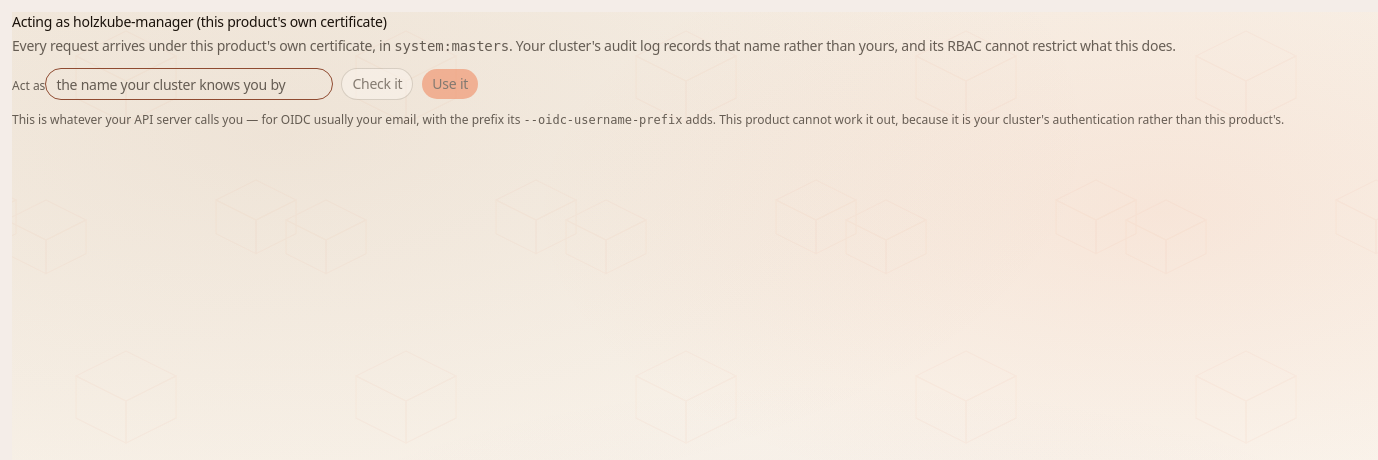
Scenario: choosing whose name the cluster sees › stores exactly the name that was checked
Later steps or results of the test are not shown.
Type "admin@example.com" into the field labelled "Act as". click: (189, 84)
box: [45,68,333,100]
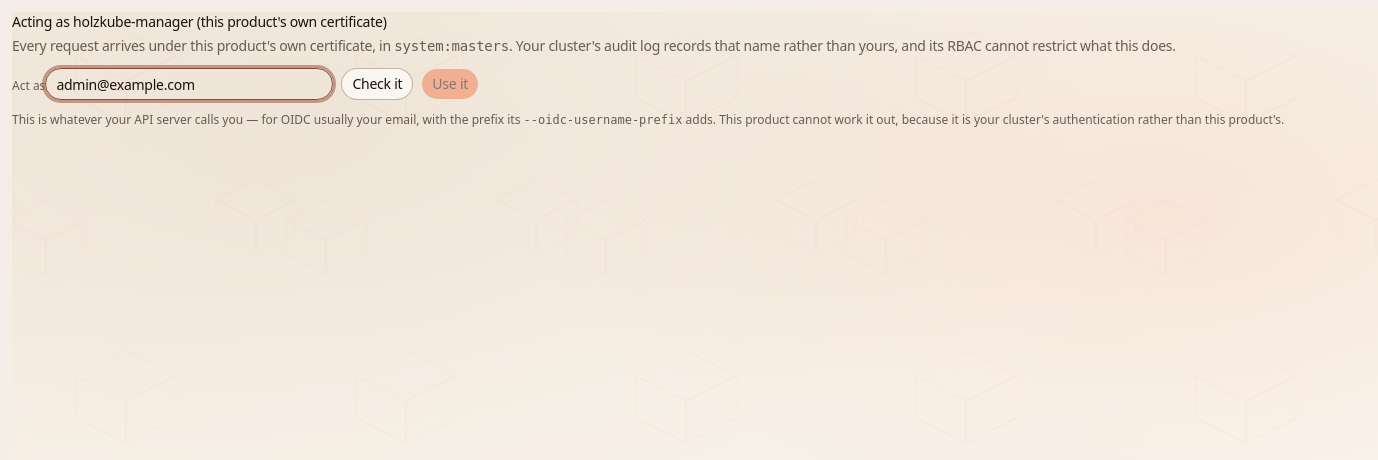
Click the button "Check it". click: (377, 84)
box: [341,68,413,100]
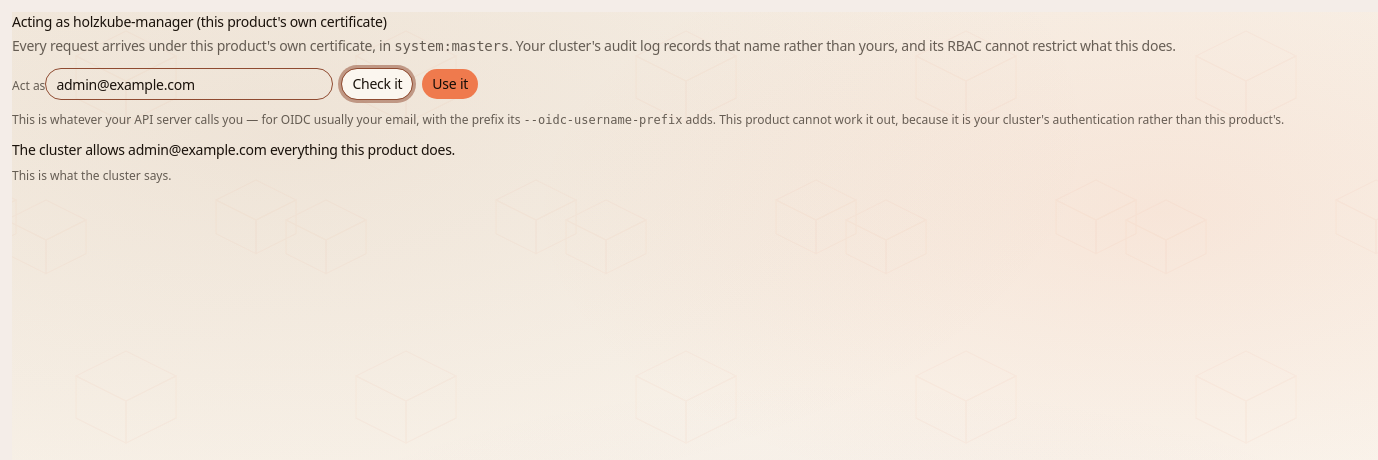
Expected: the button "Use it" is enabled, [421,68,479,100]
